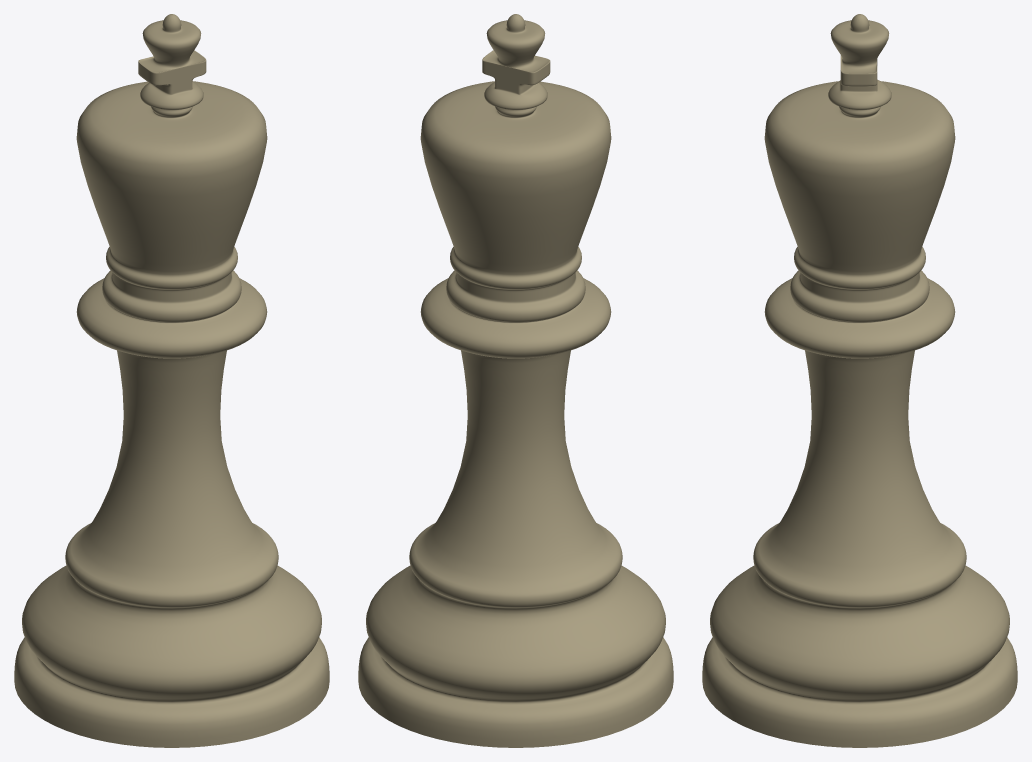
File: king.obj
3 views of the same model, side by side, from view 1: azimuth 30°, elevation 25°; view 2: azimuth 150°, elevation 25°; view 3: azimuth 270°, elevation 25° (orthographic).
Parts seen in each view (by area): view 1: Circle.011; view 2: Circle.011; view 3: Circle.011.
Boxes of the visible parts, x1=… form: Circle.011: x1=14, y1=14, x2=329, y2=747; Circle.011: x1=358, y1=14, x2=673, y2=747; Circle.011: x1=702, y1=14, x2=1017, y2=747.
Size of the model in its own units: 1.63 by 3.81 by 1.63.
